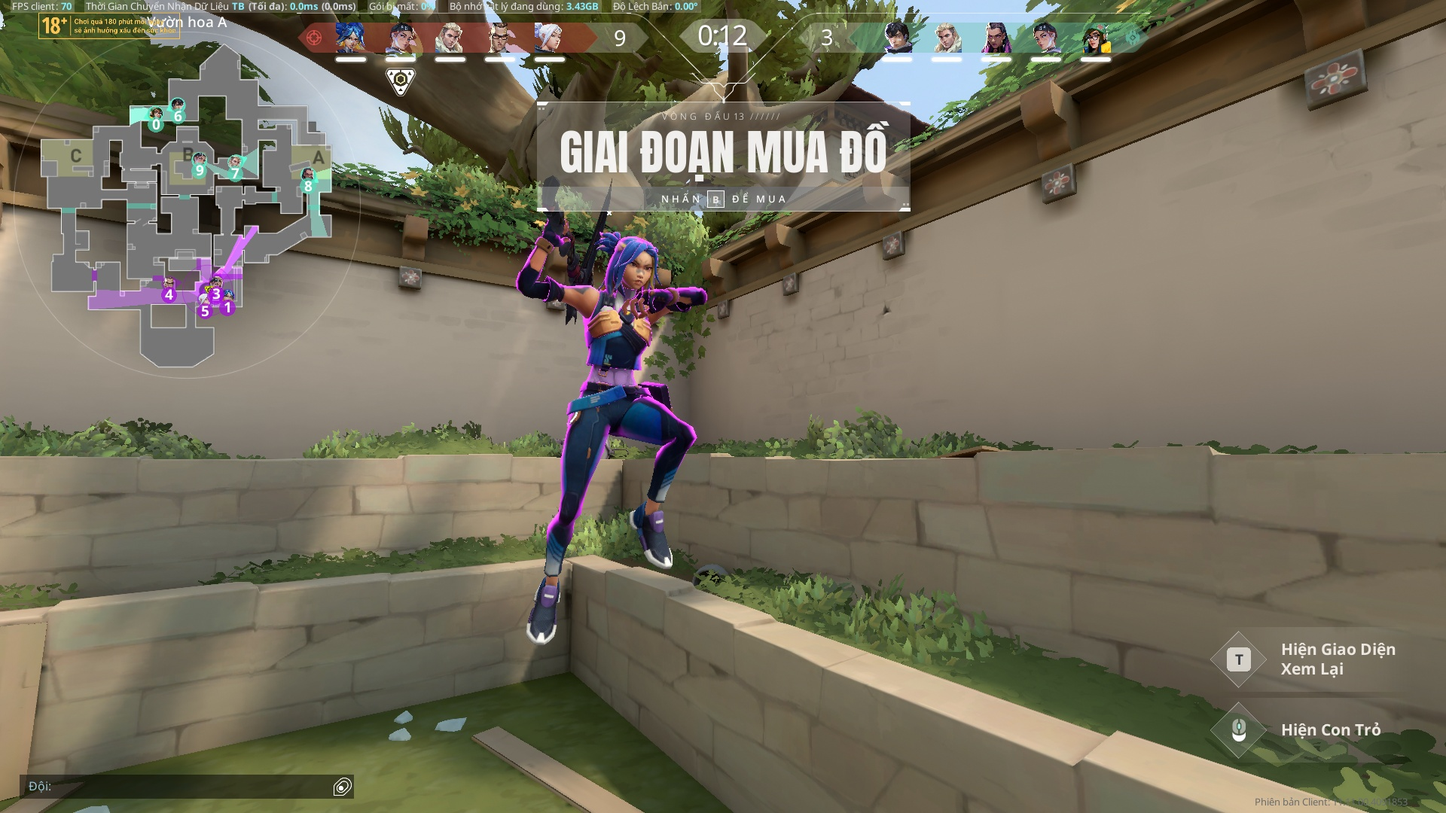body: (579, 276, 654, 376)
head: (602, 230, 659, 288)
